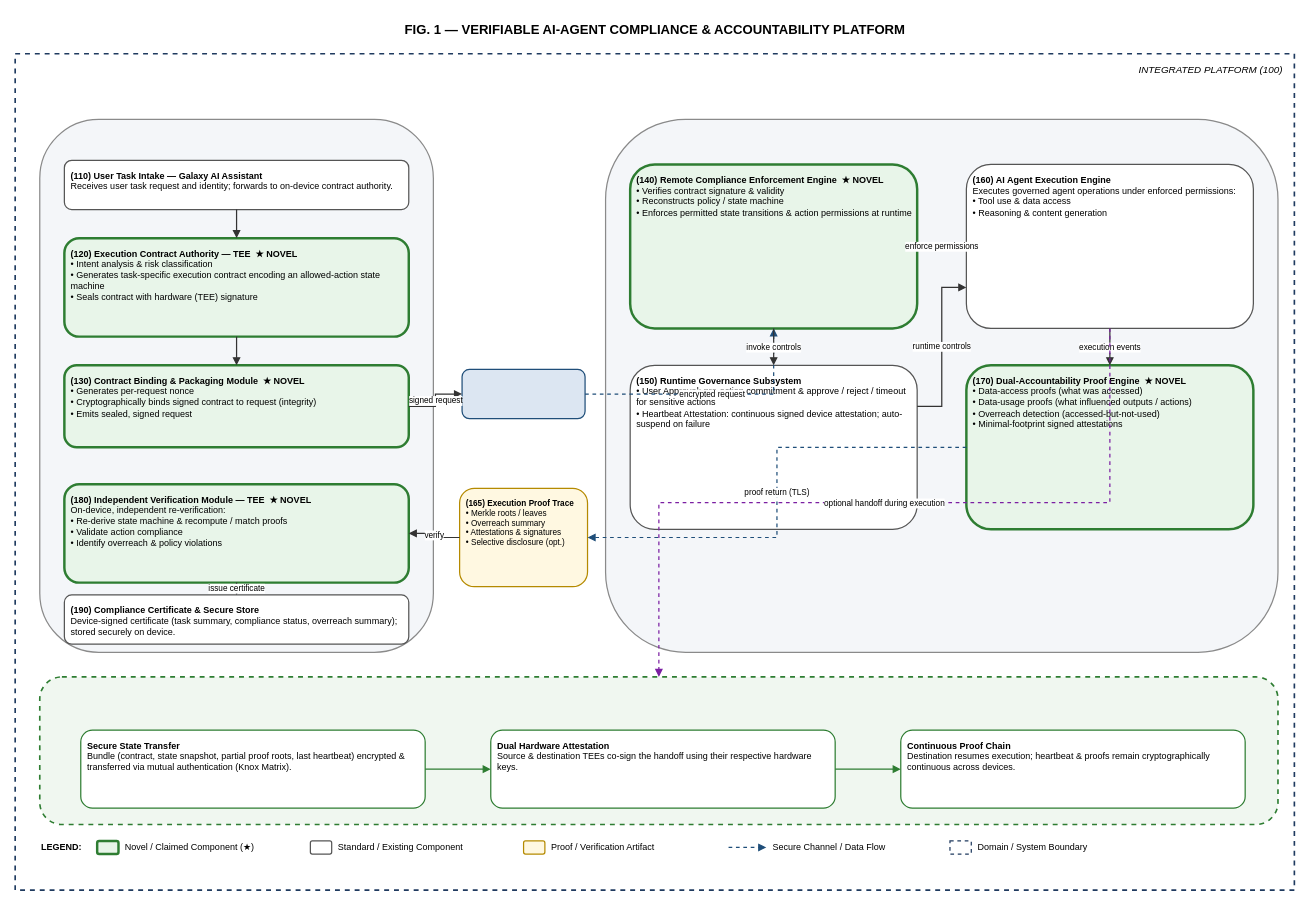
This 1309x904 diagram has some shape labels left out. The shapes that lost their labels are listed below. From the top down, each one's box as (x1, y1, x2, y2) in pixels, then its label:
(39, 118, 434, 653): ON-DEVICE TRUSTED EXECUTION ENVIRONMENT (TEE) — 102
(461, 368, 585, 419): 🔒 (106) Secure Channel (TLS)
(605, 118, 1278, 653): REMOTE AGENT EXECUTION ENVIRONMENT — 104
(39, 676, 1278, 825): (195) CROSS-DEVICE HANDOFF SUBSYSTEM (Optional) ★ NOVEL
